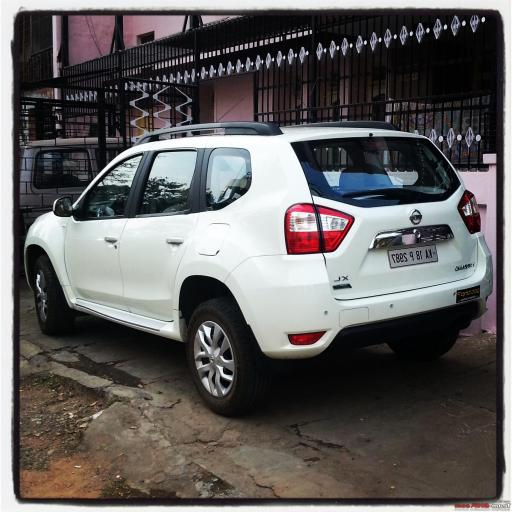License: (386, 242, 440, 271)
